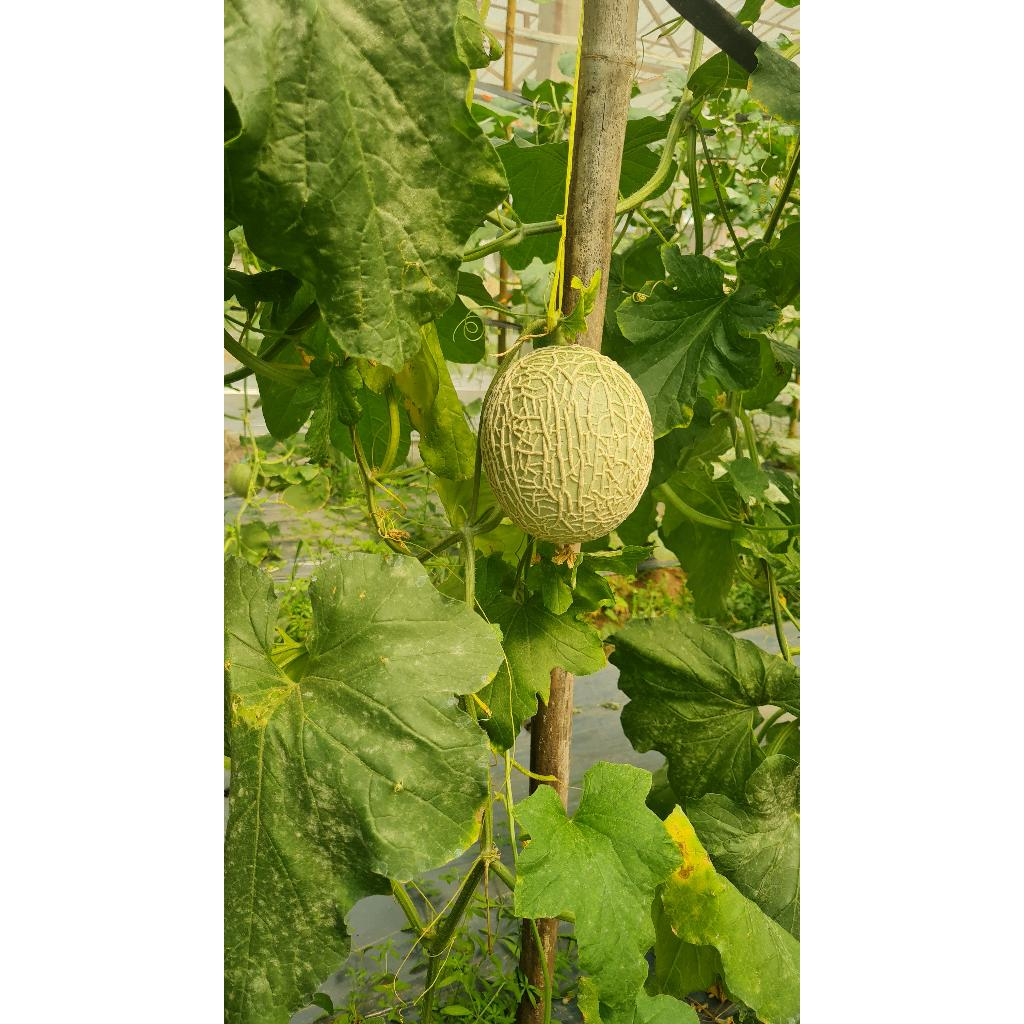melon: (480, 344, 654, 544)
